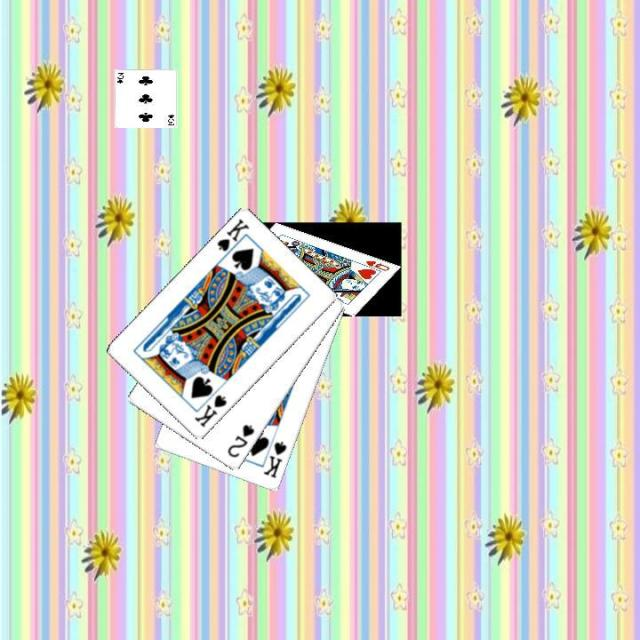2S: (223, 420, 256, 460)
KS: (214, 215, 252, 261), (190, 391, 228, 429), (259, 437, 289, 480)
